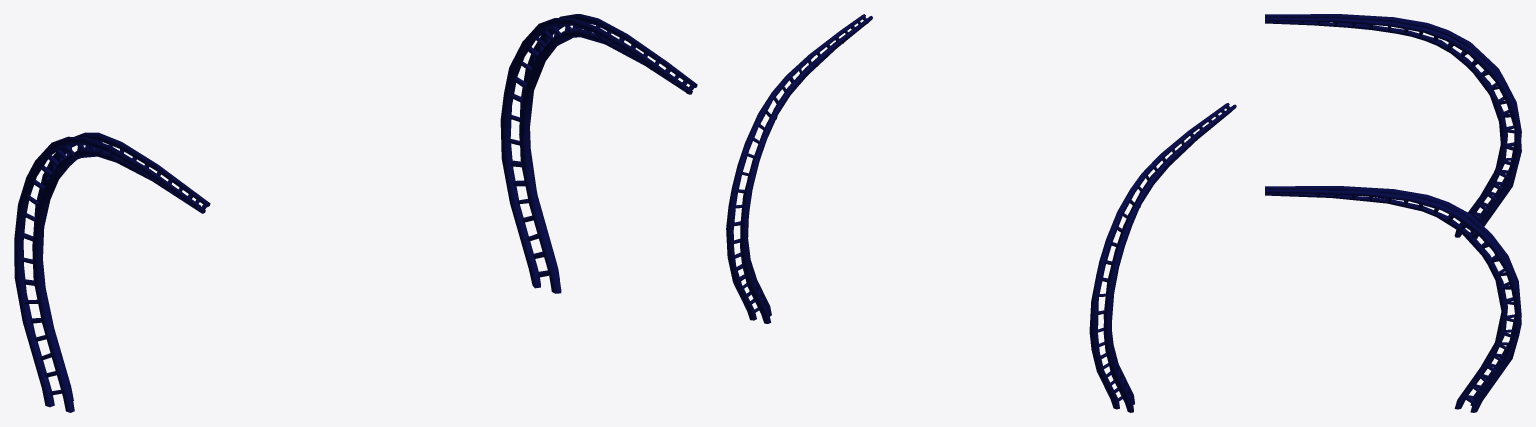
File: Al_Nasar_Football_Stadium_NurbsPath_003.FBX
3 renders of one model, left to right at view 1: azimuth 30°, elevation 25°; view 2: azimuth 150°, elevation 25°; view 3: azimuth 270°, elevation 25°, orthographic. The views are drawn at different scales.
Parts seen in each view (by area): view 1: Al_Nasar_Football_Stadium_NurbsPath_003; view 2: Al_Nasar_Football_Stadium_NurbsPath_003; view 3: Al_Nasar_Football_Stadium_NurbsPath_003.
Part boxes in pixels (bbox=[...]): Al_Nasar_Football_Stadium_NurbsPath_003: bbox=[14, 14, 697, 412]; Al_Nasar_Football_Stadium_NurbsPath_003: bbox=[726, 14, 1236, 412]; Al_Nasar_Football_Stadium_NurbsPath_003: bbox=[1265, 14, 1521, 412].
Size of the model in its own units: 6837 by 4086 by 3873.
